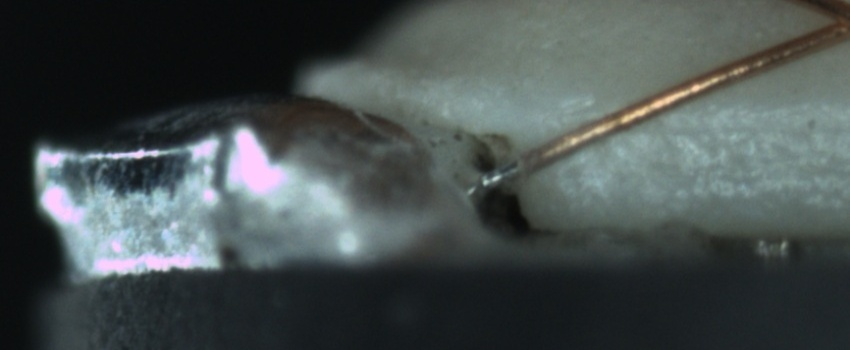CL: (805, 2, 849, 45)
DL: (626, 96, 850, 157)
TS: (474, 158, 526, 193)
